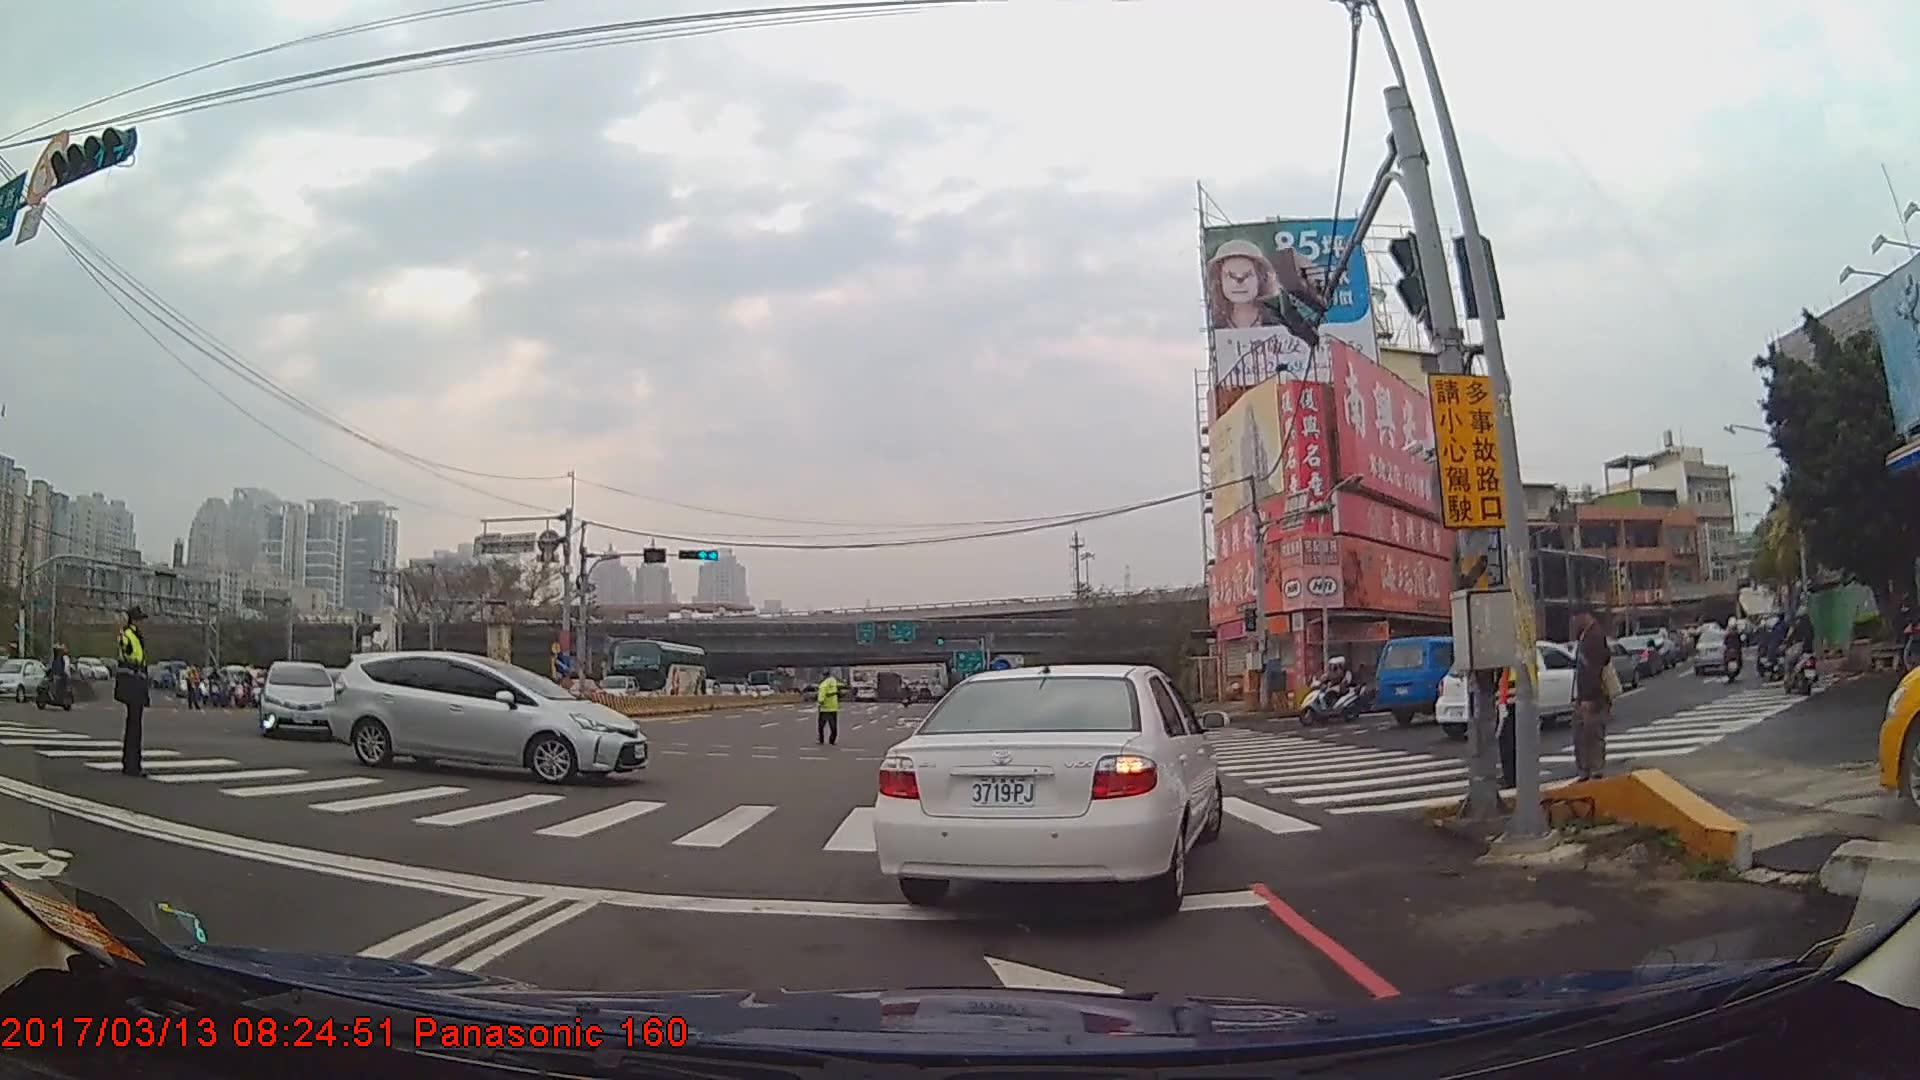pedestrian: (1565, 599, 1623, 788), (101, 604, 155, 780), (812, 667, 844, 749)
rider: (1299, 659, 1362, 731), (1779, 607, 1821, 697), (35, 643, 75, 712), (1771, 616, 1795, 684), (1722, 620, 1747, 685), (1754, 618, 1774, 679)
vehicle: (873, 663, 1226, 905), (330, 648, 653, 784), (1431, 642, 1608, 740), (1376, 633, 1537, 727), (603, 635, 706, 708), (261, 657, 344, 737), (1690, 626, 1741, 676), (1, 653, 52, 702), (1613, 635, 1662, 678)
